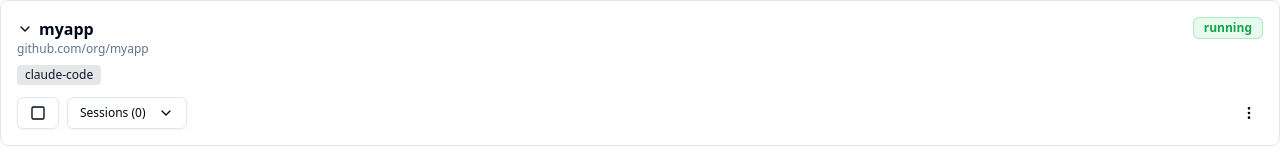
Test case: WorkspaceCard — repli › le repli est réversible
The width and height of the screenshot is (1280, 163).
What coordinates should you click on to do the following:
click the button with test id "workspace-collapse-myapp"
I would click on:
 (55, 29)
Its box is 17,17 -> 94,41.
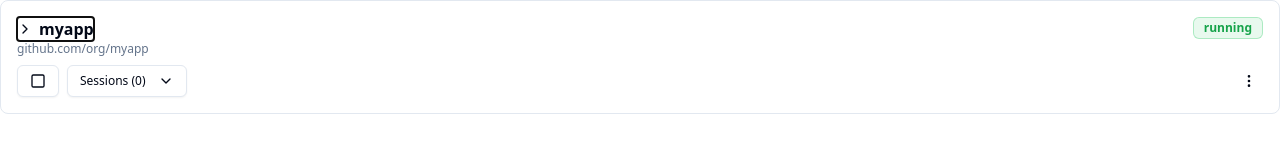
Expected: the text "claude-code" is gone
What coordinates should you click on to do the following:
click the button "myapp"
I would click on:
 (55, 29)
Its box is 17,17 -> 94,41.
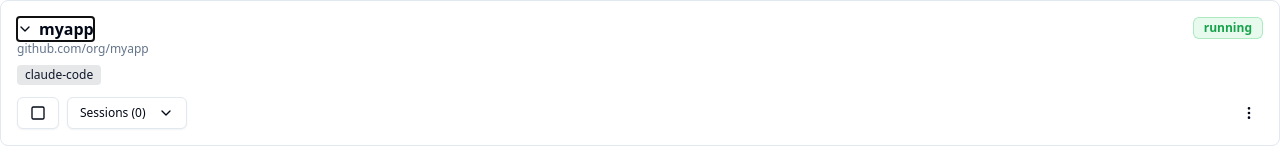
Expected: the text "claude-code" is shown, 17,65 -> 101,85
